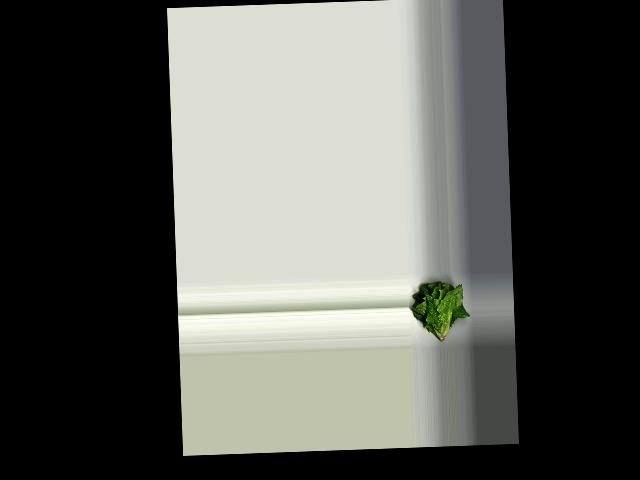lettuce: (411, 277, 464, 344)
